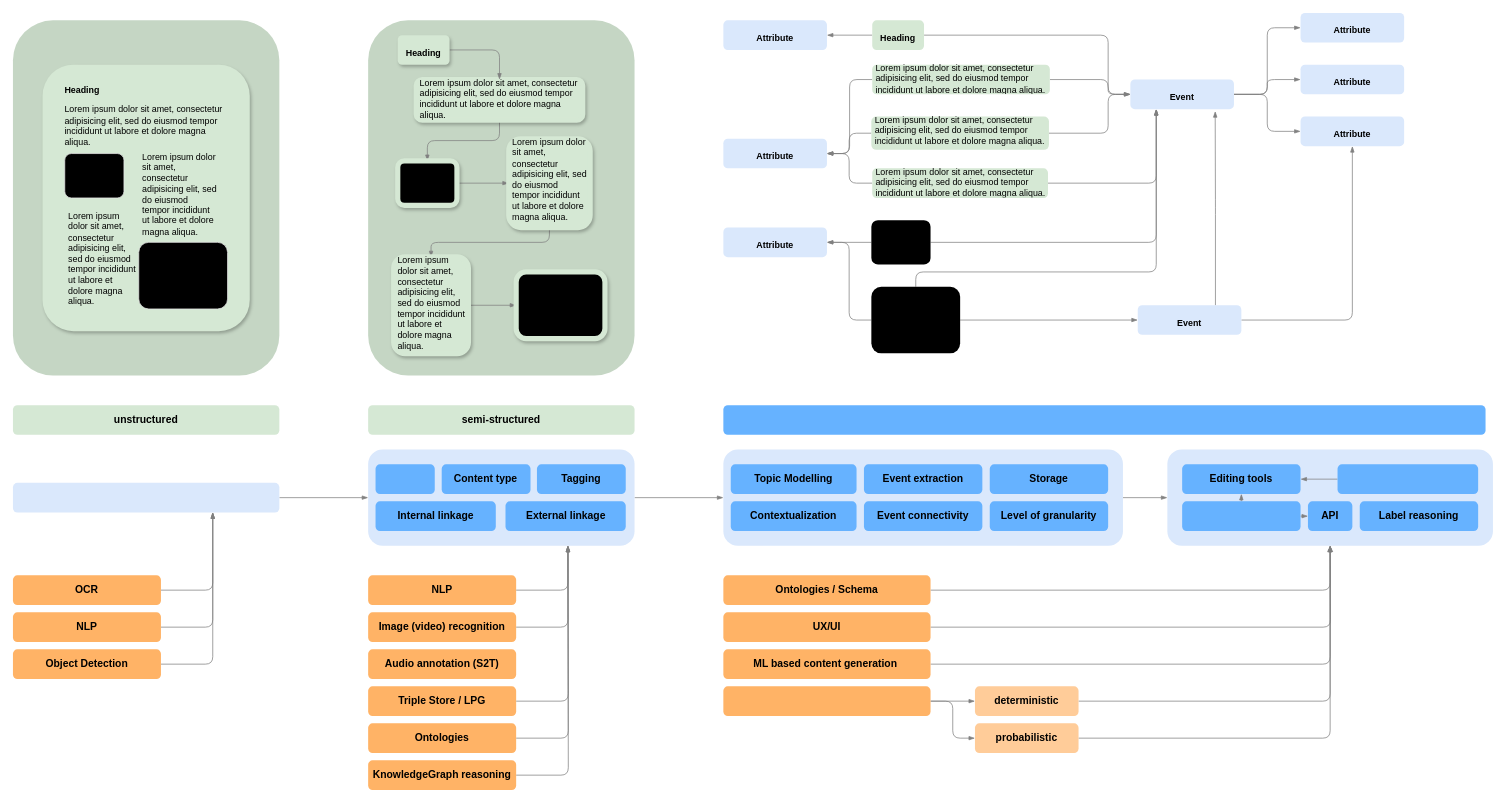
The diagram is 1505 pixels wide and 802 high, and some of its shapes have lost their labels. The shapes that lost their labels are listed below. From the top down, each one's centre as x and y in pixels, then its label:
the point at 1104,419: structured
the point at 146,497: No knowledge about structure
the point at 404,479: Order
the point at 1407,479: Code for re-assemblance
the point at 1241,516: Networked news
the point at 826,701: Label attribution / reasoning
